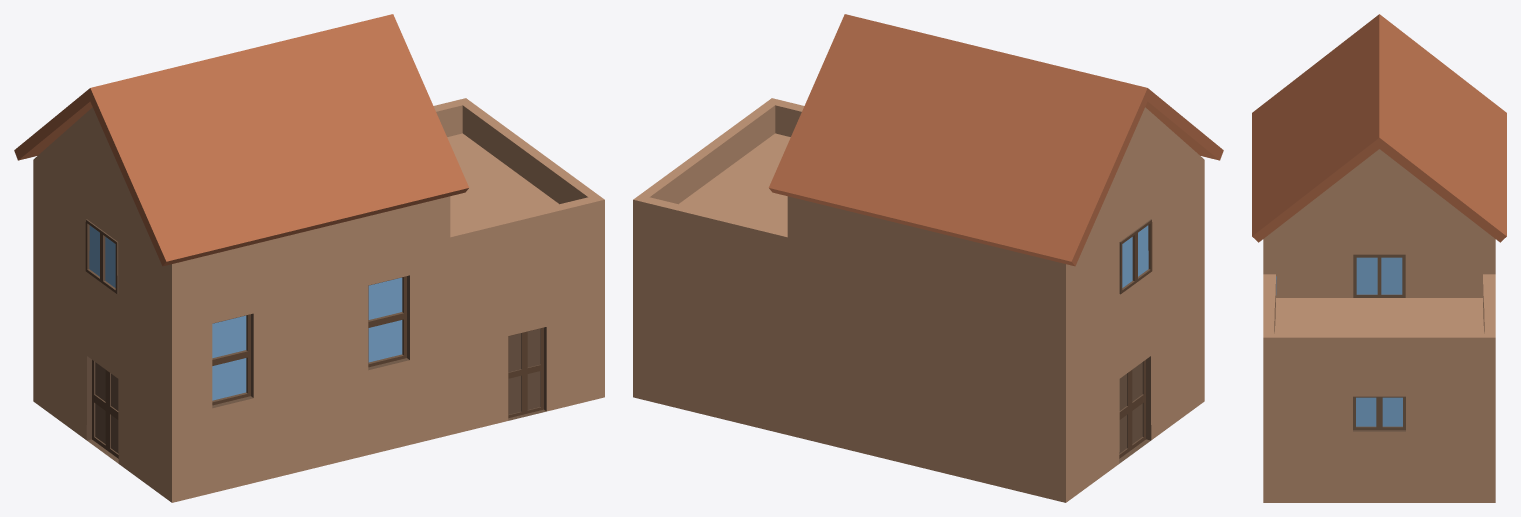
The model's file is House_001.fbx.
3 renders of one model, left to right at view 1: azimuth 30°, elevation 25°; view 2: azimuth 150°, elevation 25°; view 3: azimuth 270°, elevation 25°, orthographic. The views are drawn at different scales.
Visible parts, largest first — view 1: House_001; view 2: House_001; view 3: House_001.
Part boxes in pixels (x1,y1,x2,y2): House_001: (14,14,604,502); House_001: (633,14,1223,502); House_001: (1252,14,1506,502).
Size of the model in its own units: 1304 by 1028 by 772.
